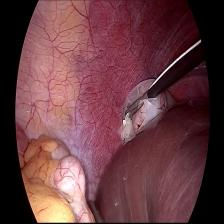Grasper: (123, 92, 147, 123)
Specimen Bag: (115, 71, 175, 150)
